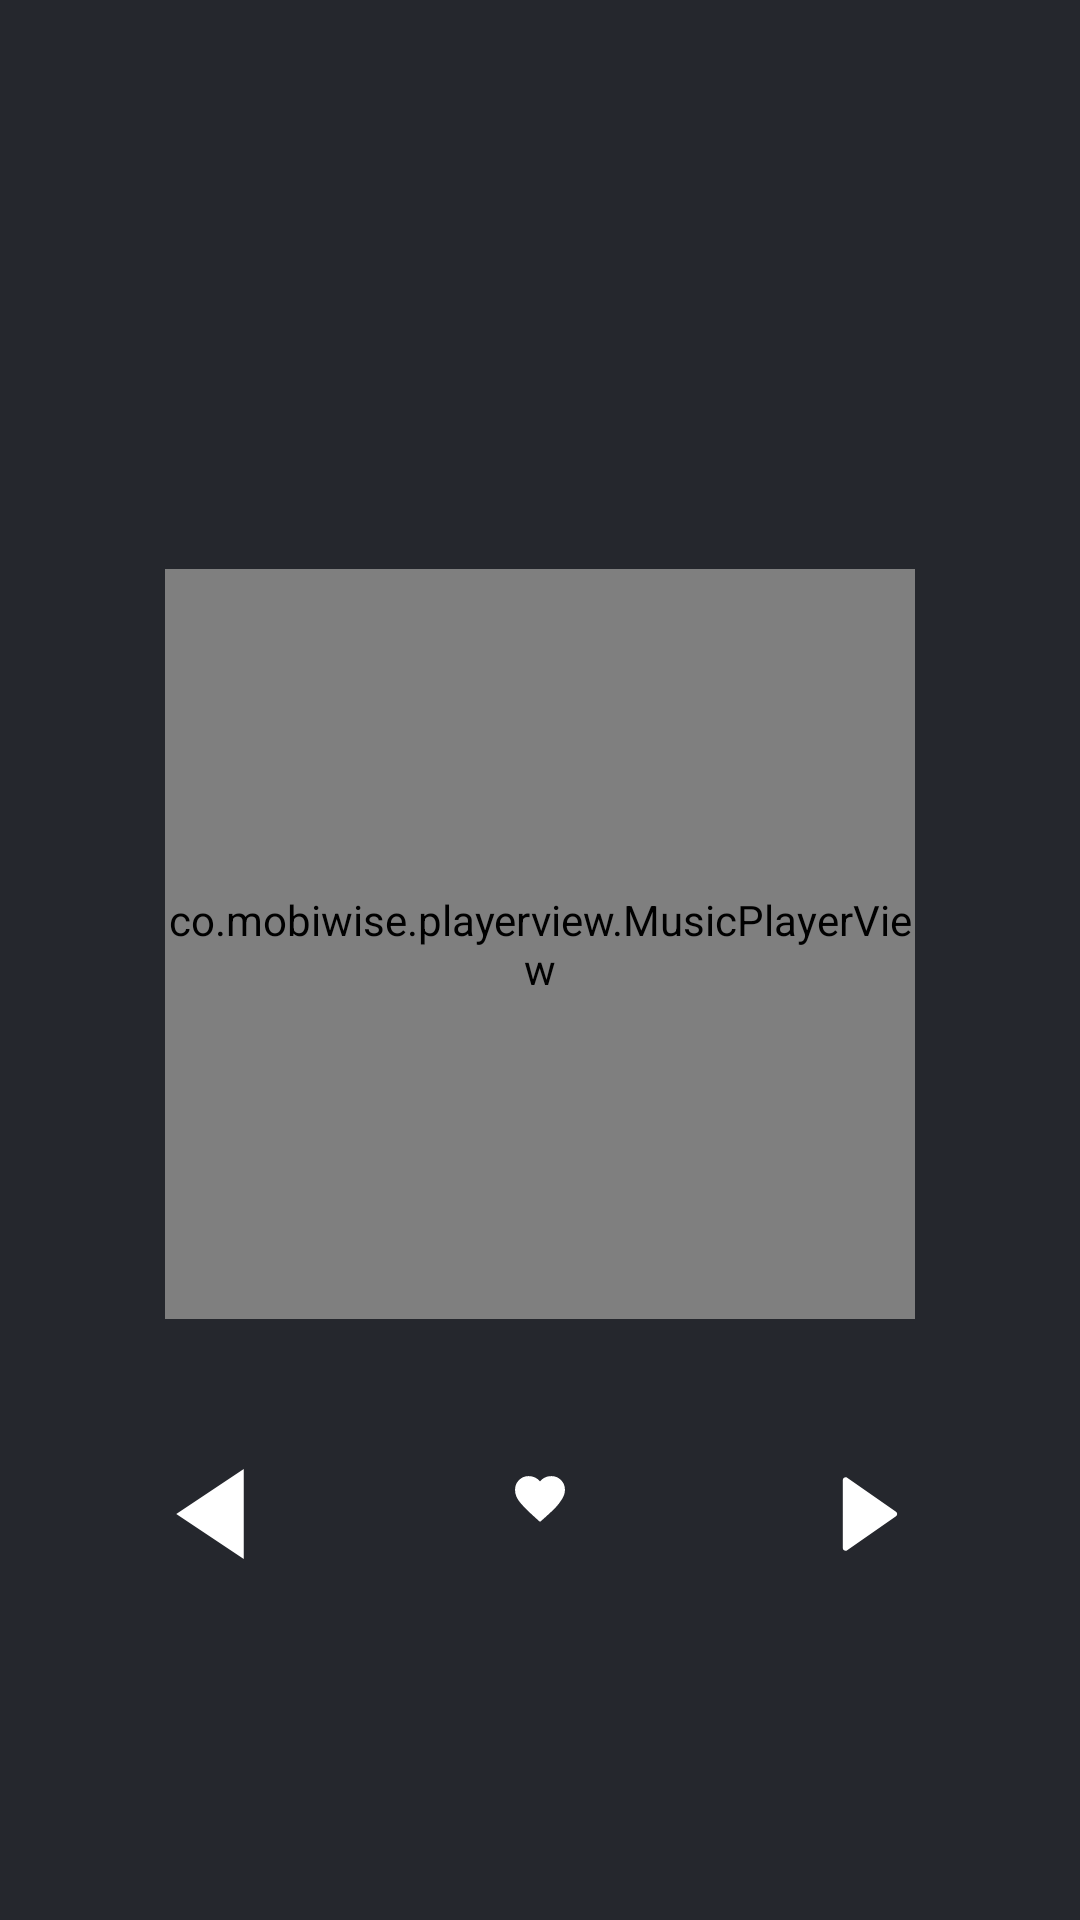

Screen size 1080px x 1920px. Icon name, then its box in pixels as [x1, y1, x2, y2]:
like: [515, 1476, 565, 1522]
next: [842, 1477, 897, 1551]
previous month: [176, 1469, 244, 1559]
